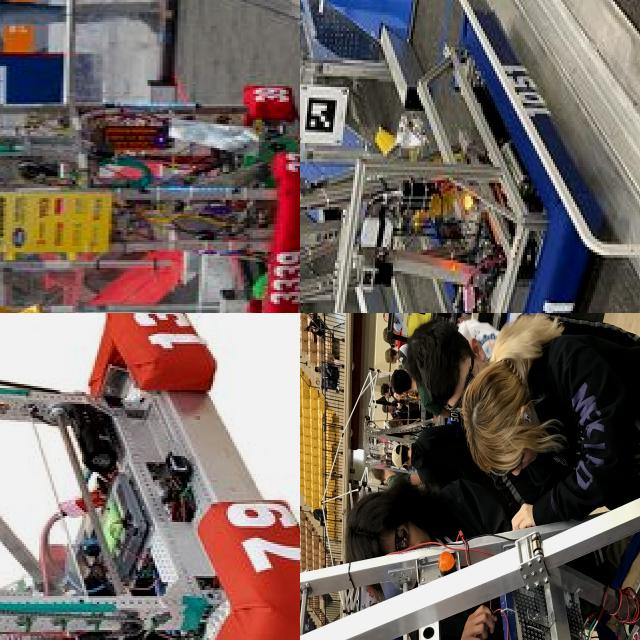FRC-Robots: (300, 313, 640, 640), (0, 313, 300, 640), (300, 0, 604, 313), (0, 50, 300, 313)
